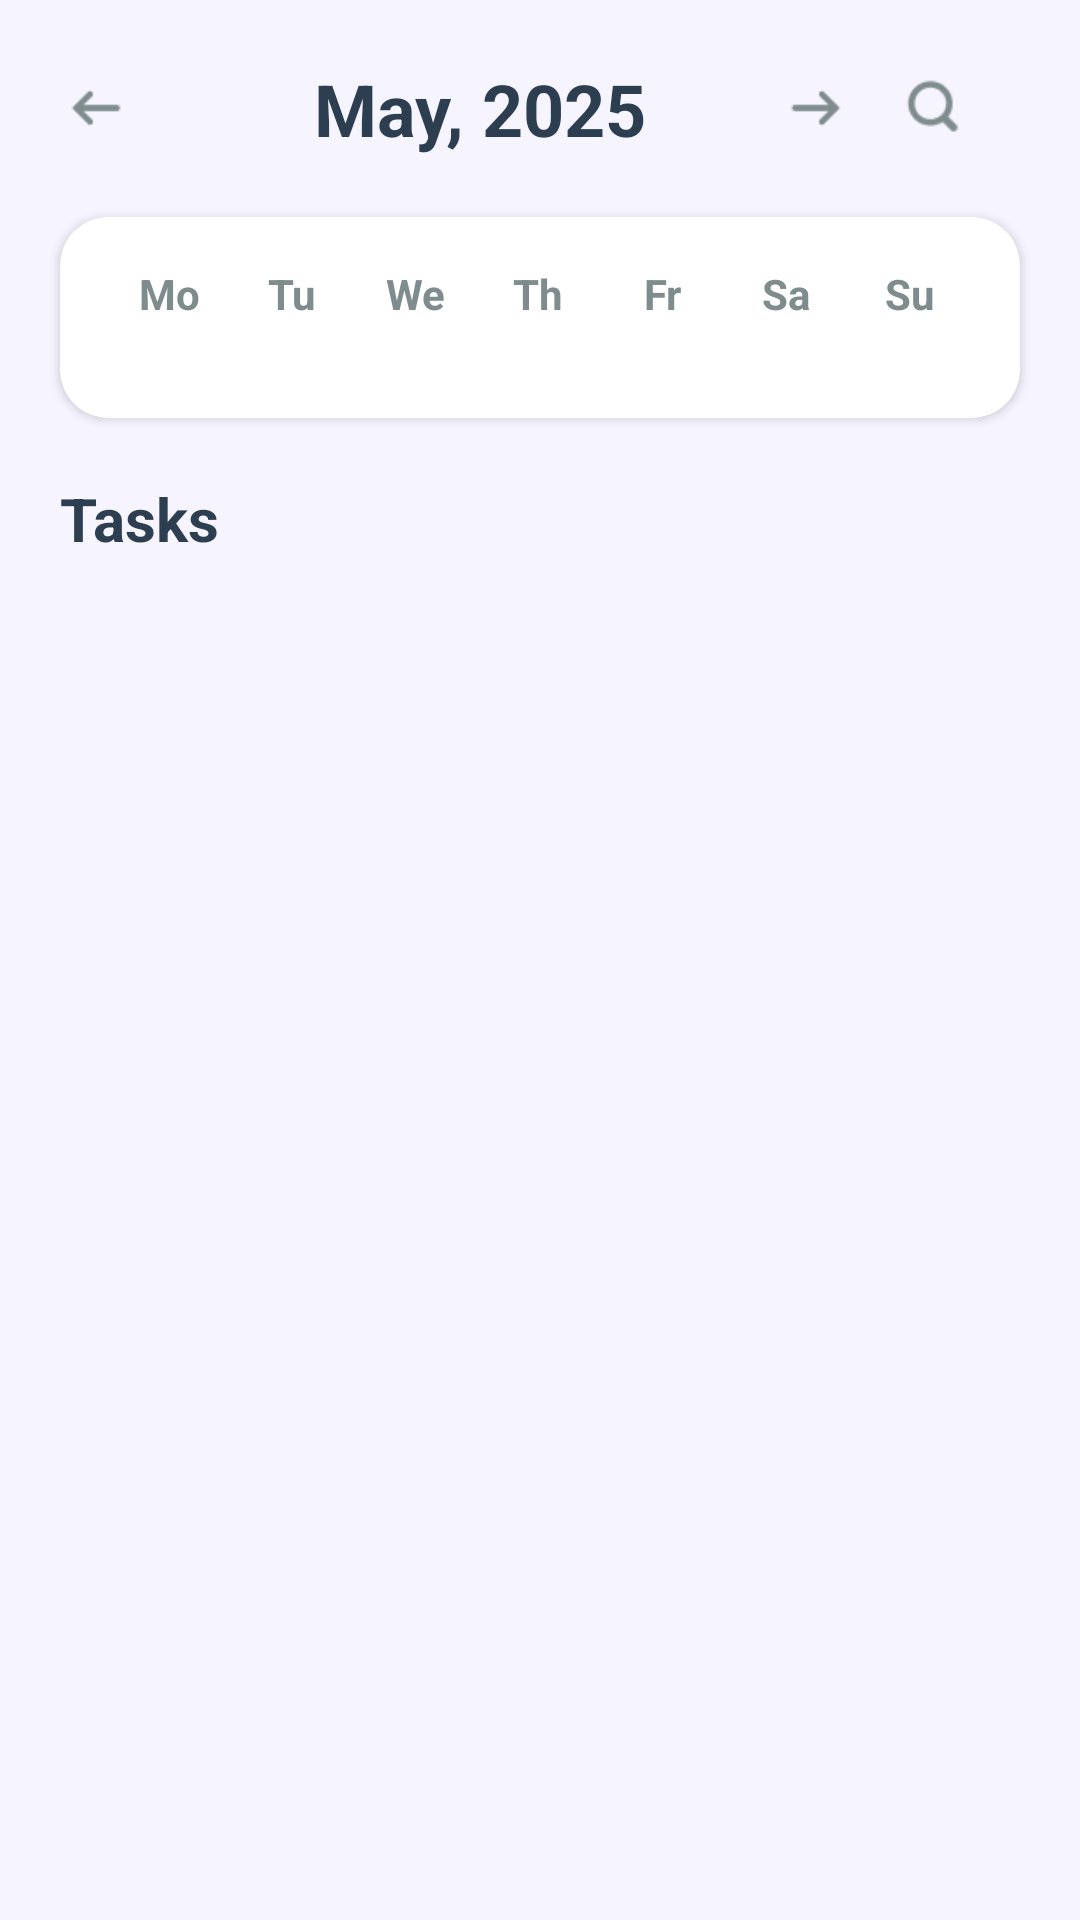

Point at icon controls on the screen. Image size 1080w x 1920h, points as (x=x, y=y).
back: (x=96, y=108)
forward: (x=815, y=108)
search: (x=933, y=106)
